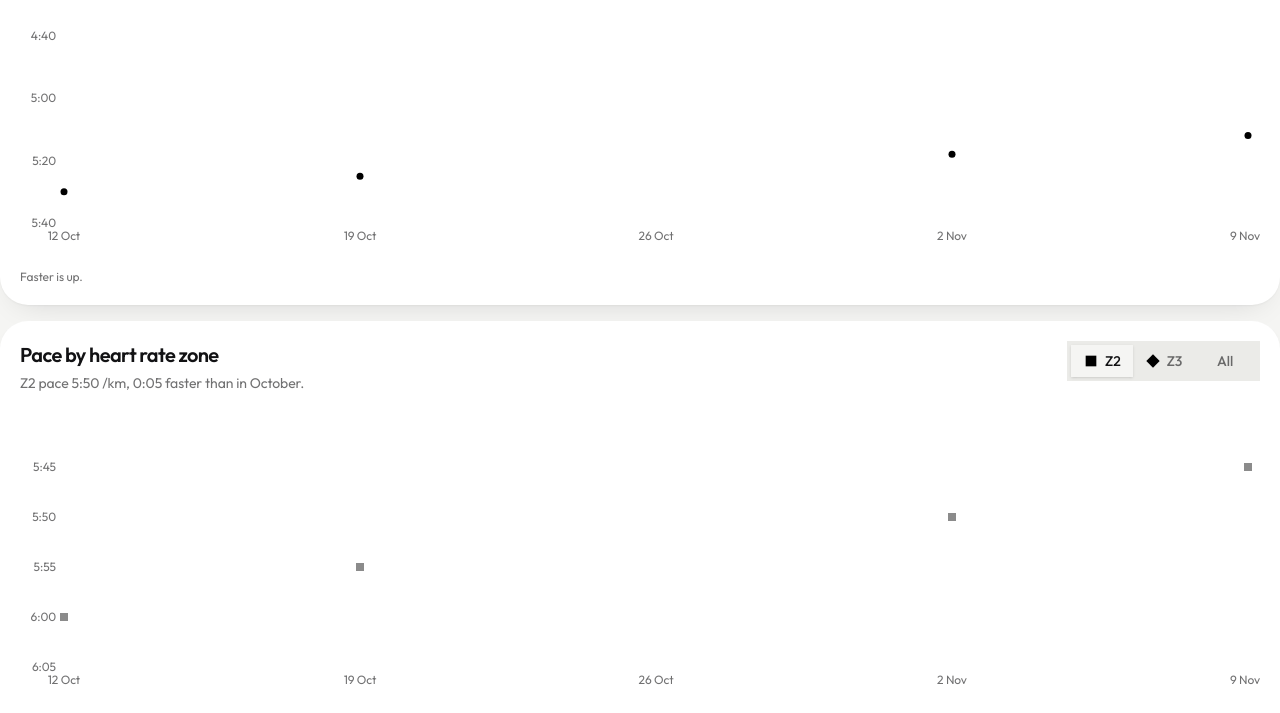
RunProgressView › shows every zone together under All
(page scrolled)
Click the tab with test id "zone-tab-all".
click(1225, 360)  # box 1194,344 -> 1256,376
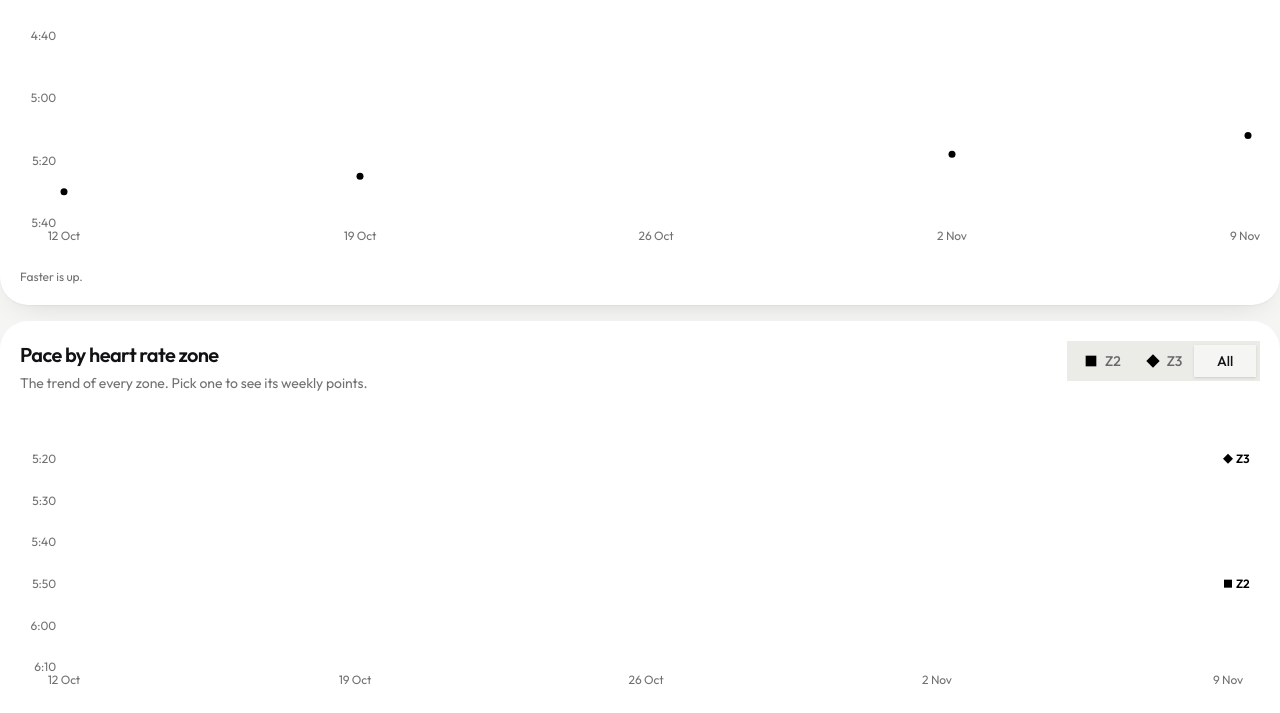
Check: the text with test id "zone-chart-takeaway" reads "The trend of every zone. Pick one to see its weekly points.", box 20,374 -> 367,392
